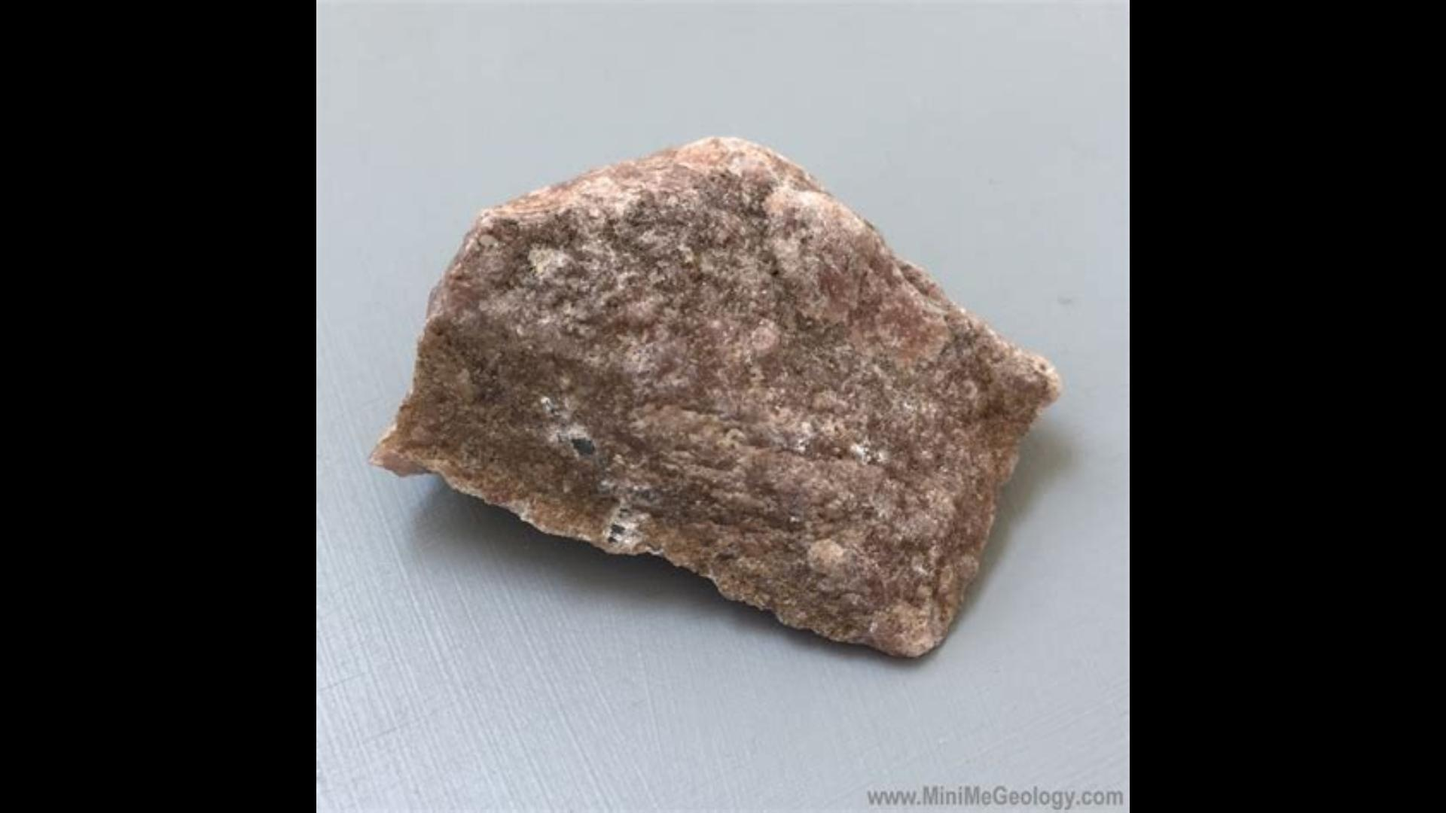rock: (373, 139, 1058, 653)
